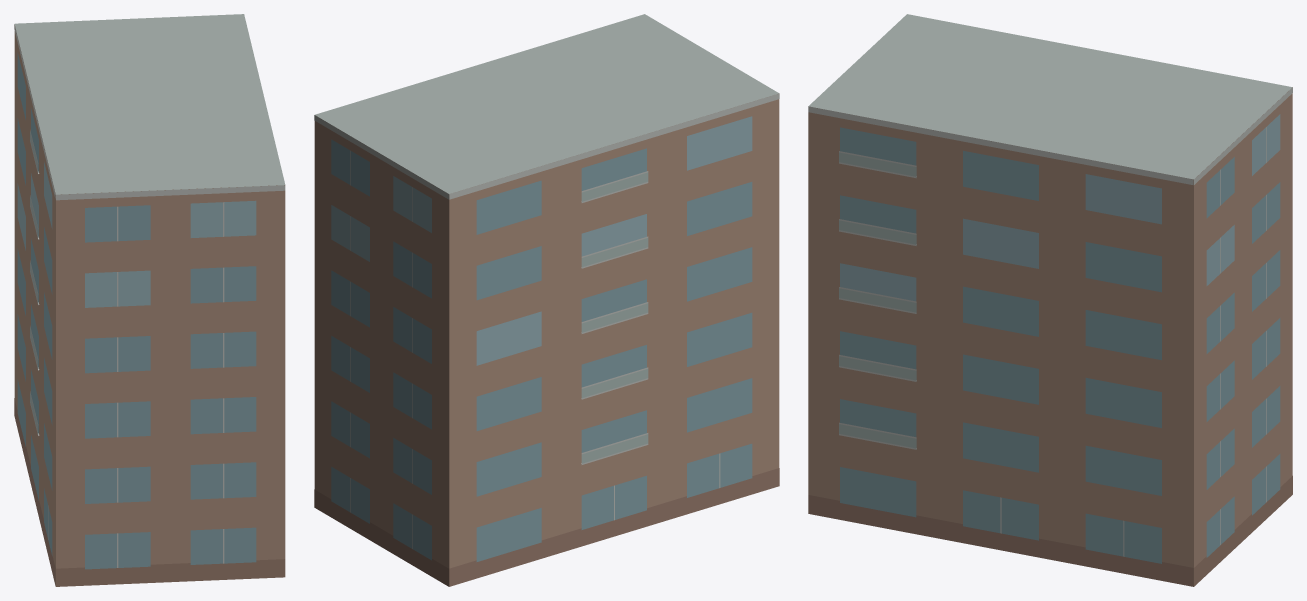
File: survey-upis-32680259.glb
The picture shows the model from 3 angles, left to right: view 1: azimuth 30°, elevation 25°; view 2: azimuth 150°, elevation 25°; view 3: azimuth 270°, elevation 25°; orthographic projection. The views are drawn at different scales.
Visible parts, largest first — view 1: survey-upis-32680259.tmp; view 2: survey-upis-32680259.tmp; view 3: survey-upis-32680259.tmp.
Part boxes in pixels (<box>): survey-upis-32680259.tmp: <box>14,14,285,586</box>; survey-upis-32680259.tmp: <box>314,14,779,586</box>; survey-upis-32680259.tmp: <box>808,14,1292,586</box>.
Size of the model in its own units: 14.73 by 16.9 by 18.22.
